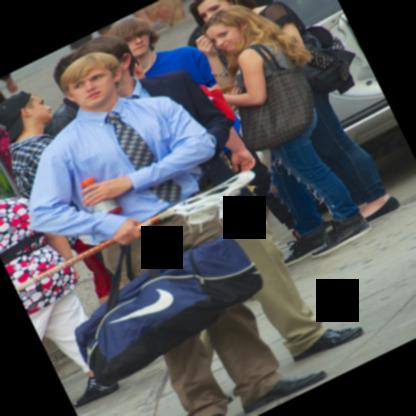backpack: (300, 26, 356, 98)
handbag: (75, 230, 265, 392), (236, 42, 313, 149), (299, 26, 356, 94)
suitcase: (75, 231, 263, 386)
